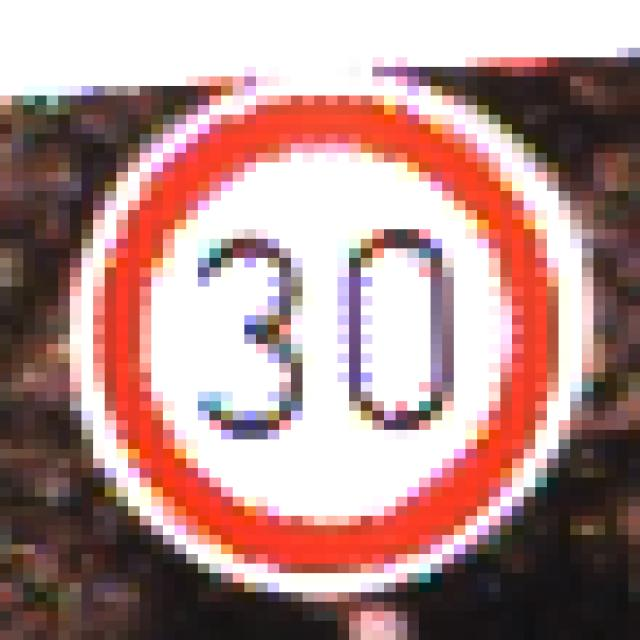Speed Limit -30-: (58, 52, 570, 578)
